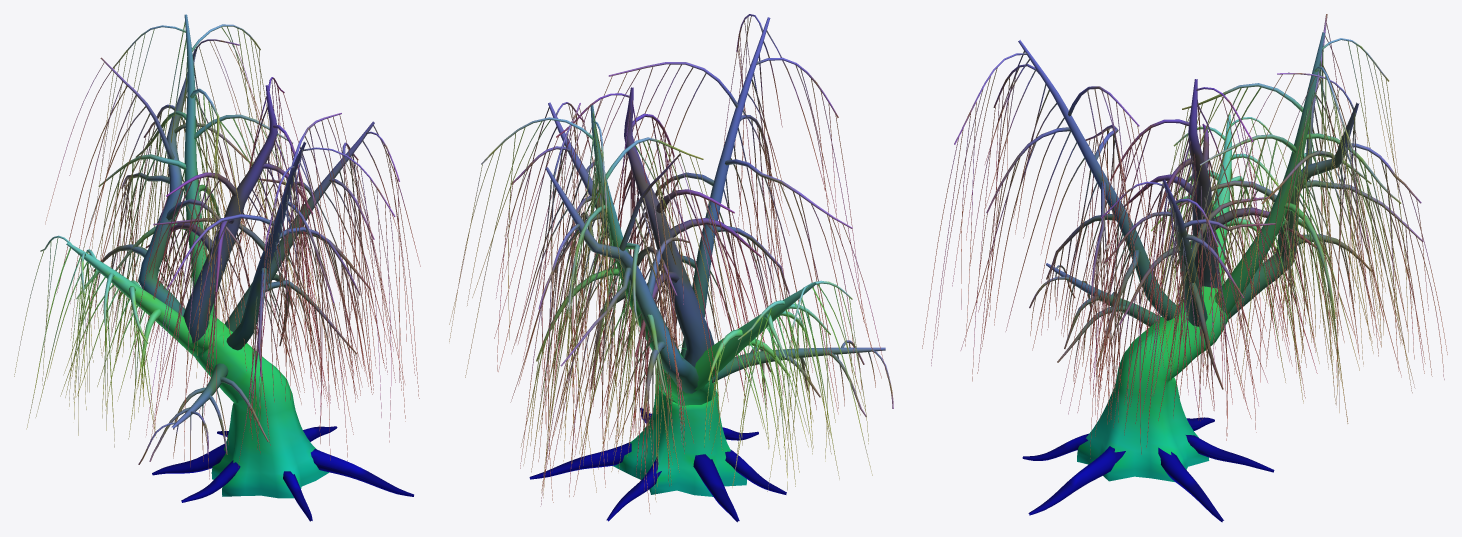
Rendered from sakura-hero-weeping.glb.
The picture shows the model from 3 angles, left to right: view 1: azimuth 30°, elevation 25°; view 2: azimuth 150°, elevation 25°; view 3: azimuth 270°, elevation 25°; orthographic projection. The views are drawn at different scales.
Parts seen in each view (by area): view 1: bark; view 2: bark; view 3: bark.
Boxes of the visible parts, x1=… form: bark: x1=14, y1=14, x2=420, y2=521; bark: x1=449, y1=14, x2=893, y2=522; bark: x1=922, y1=14, x2=1447, y2=522.
Size of the model in its own units: 11.39 by 12.22 by 13.33.
